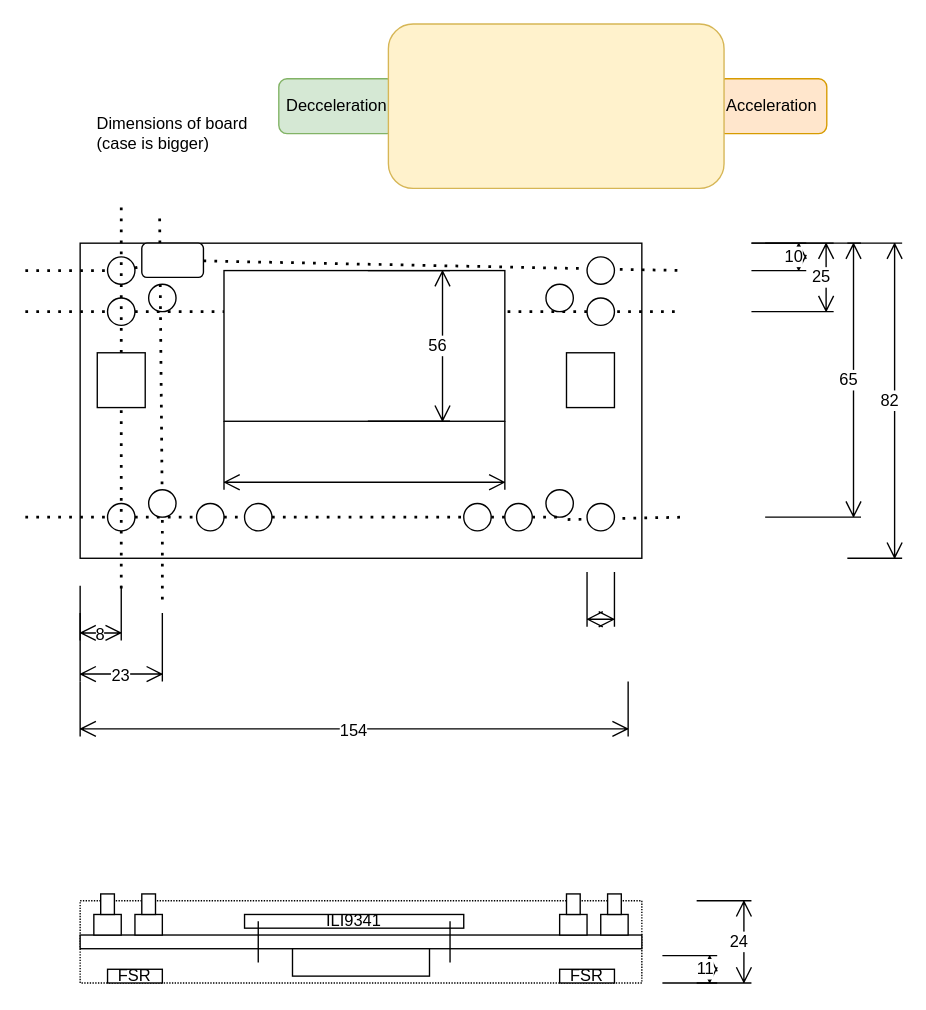
This 926x1010 diagram has some shape labels left out. The shapes that lost their labels are listed below. From the top down, each one's centre as x and y in pixels, then its label:
At point (555, 105): "Blink Blink DriveLight, Light Power/Speed, Set BUTTONS Horn nextScreen Horn".
At point (171, 259): "15dPin".
At point (364, 455): "88 Distance Pin rows: 83.5".
At point (600, 599): "d12".
At point (360, 961): "PCF8574 (2x) & ADS1115".
